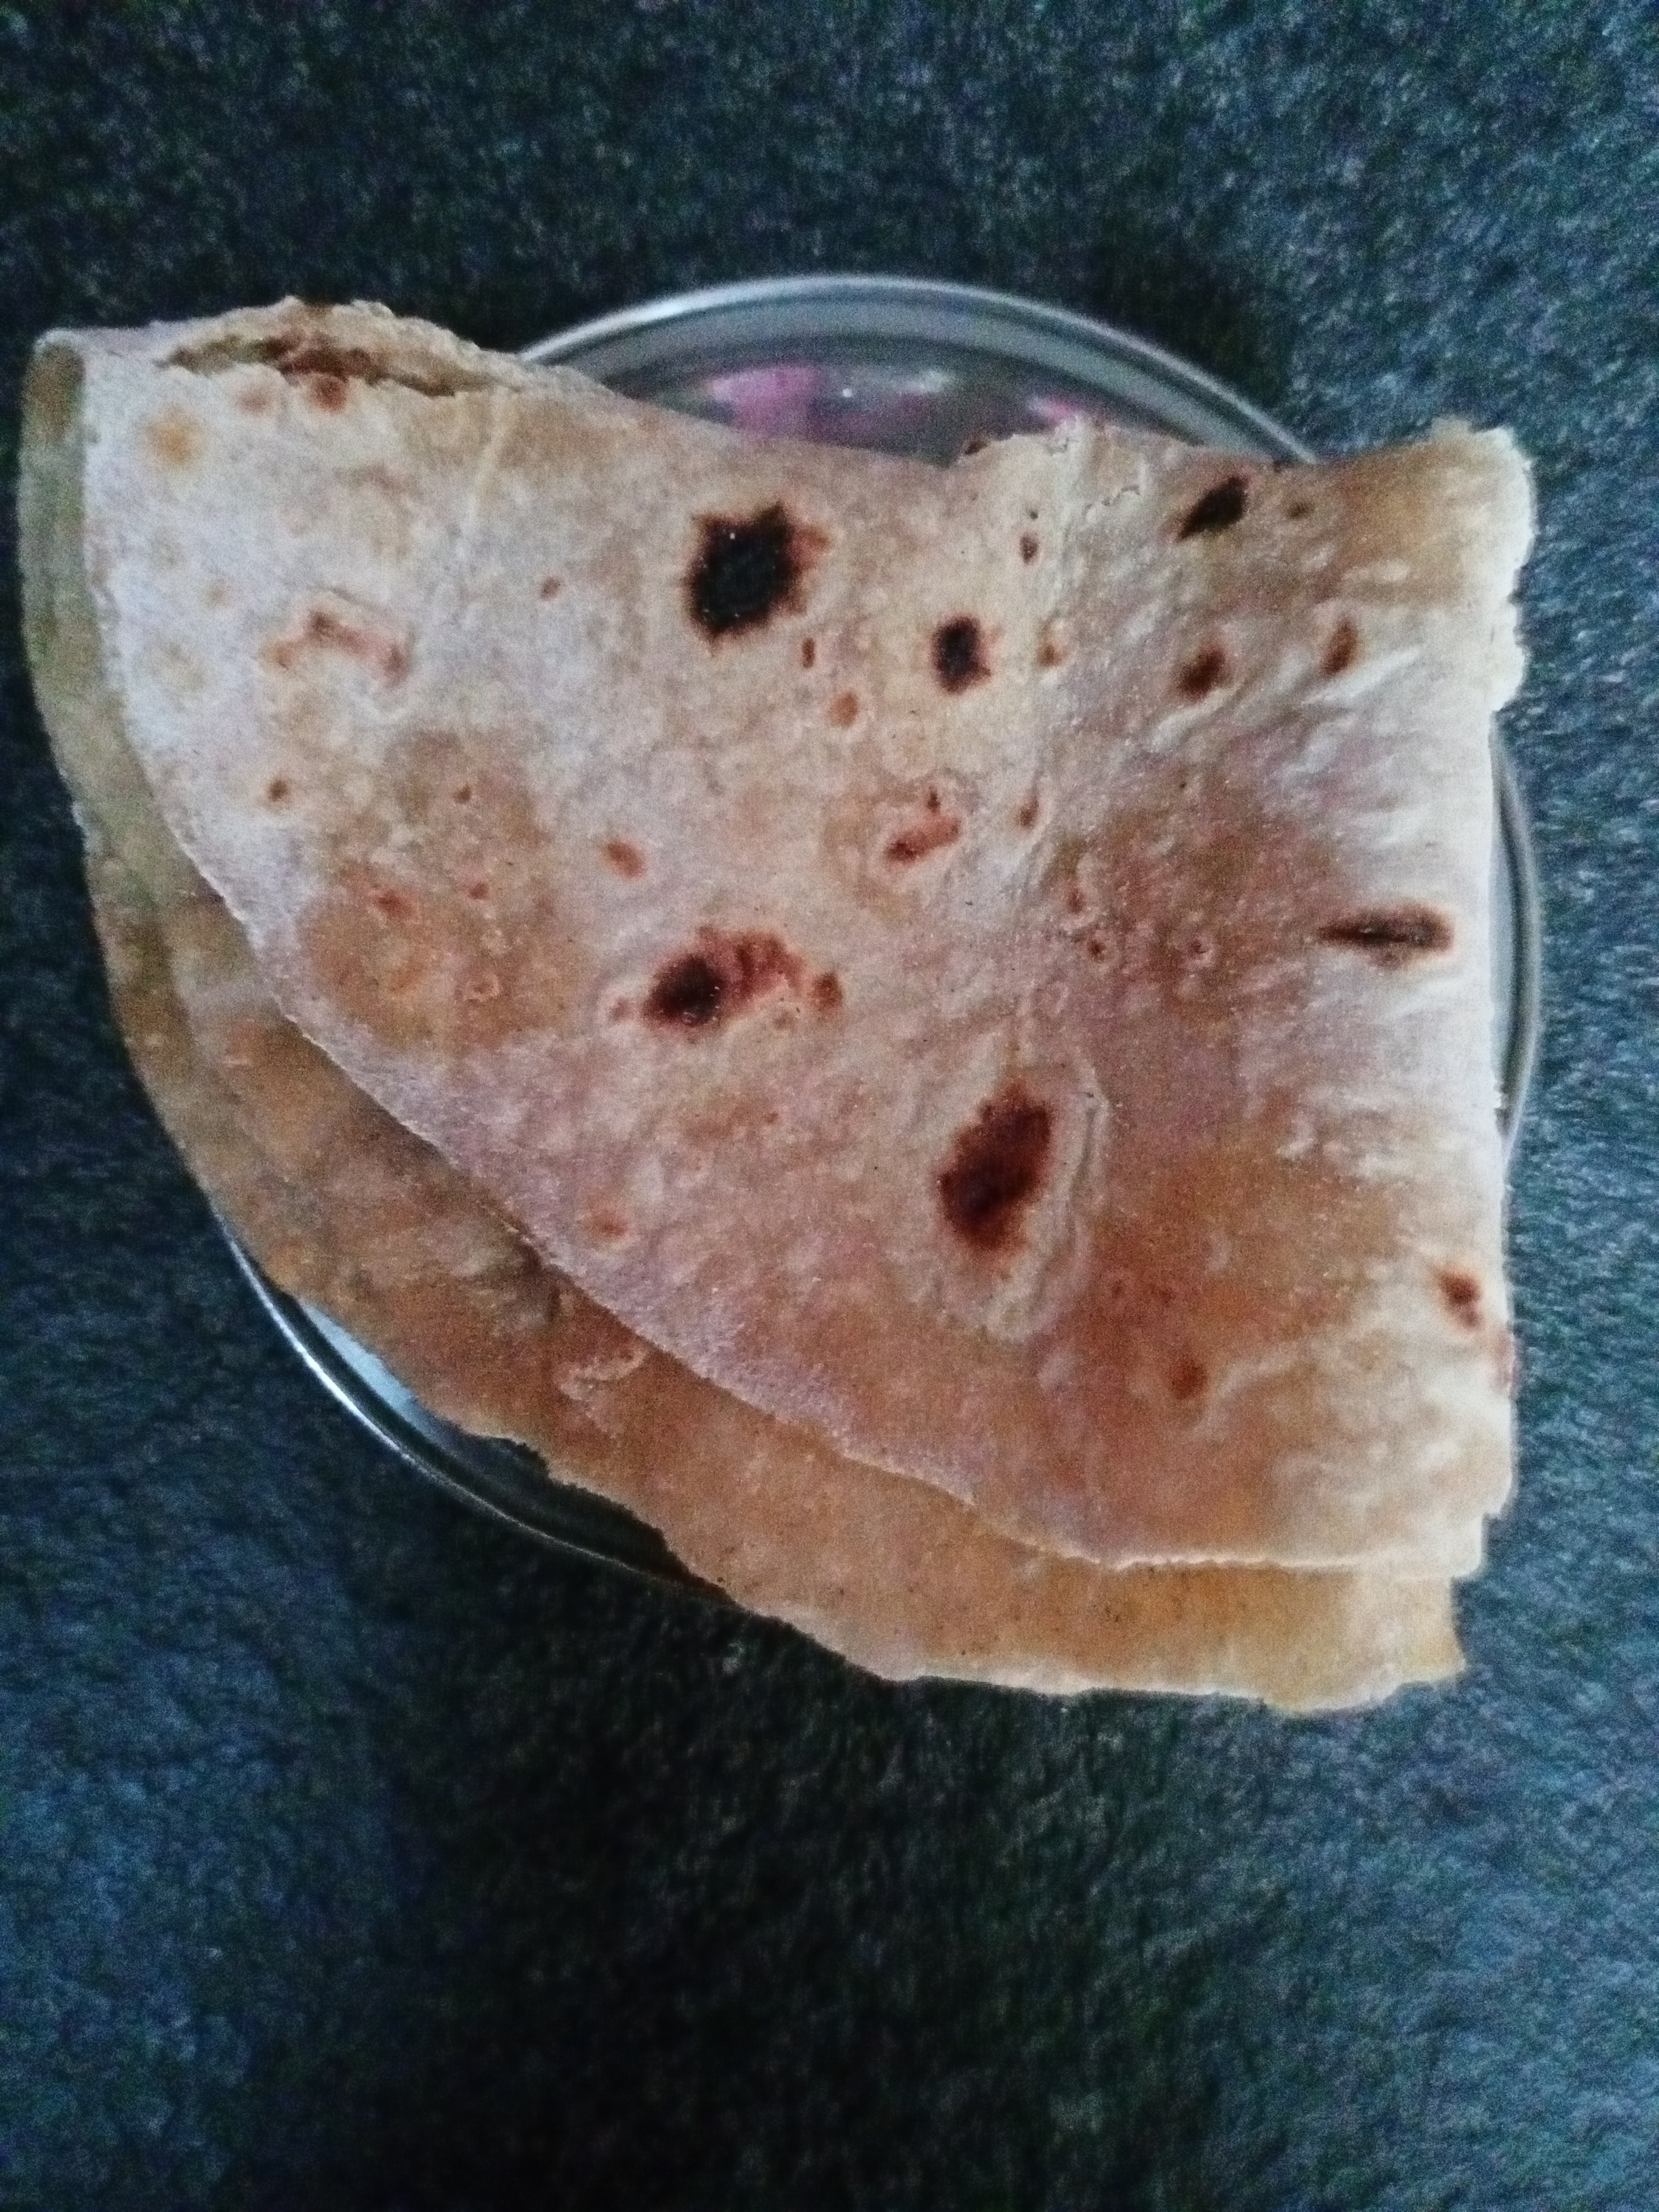food: (3, 284, 1549, 1731)
